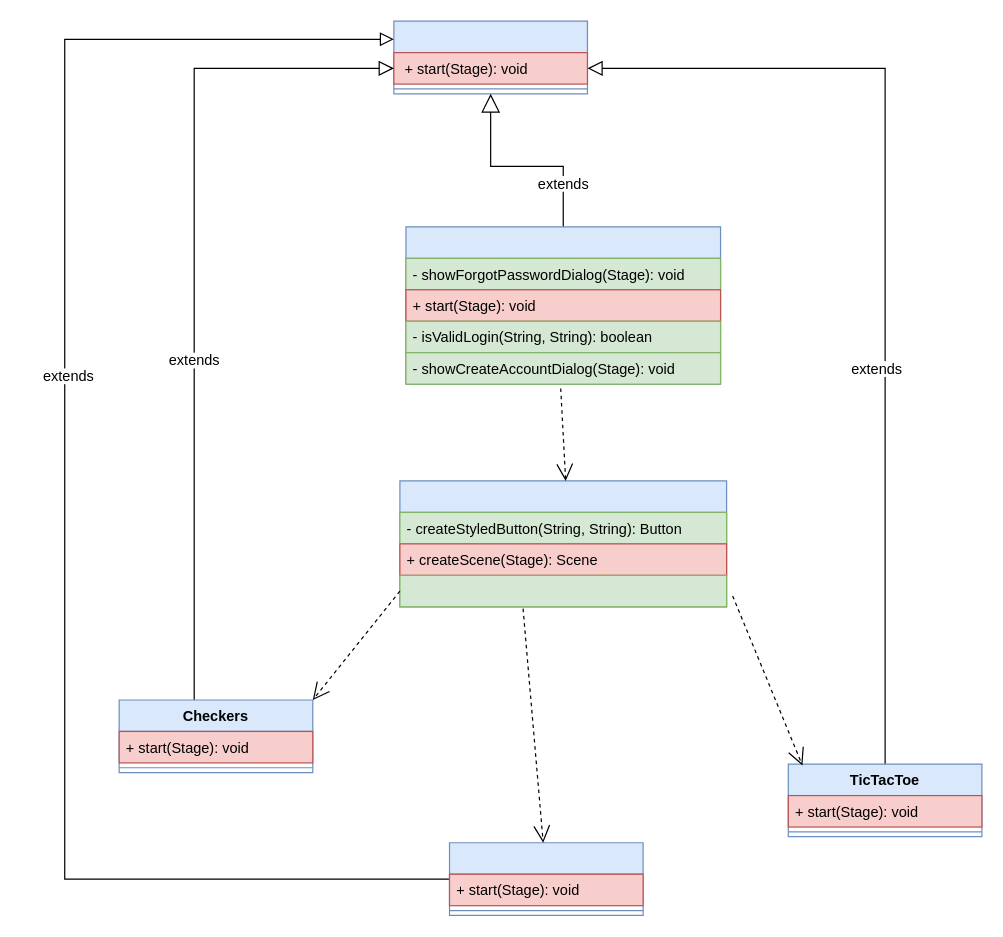
Image size: 1003x937. Some labels were removed from this diagram. Here are the shapes that lost their labels. From the top down, the box of each, then its label:
(393, 20, 587, 94): Application
(405, 226, 721, 384): LoginWindow
(399, 480, 727, 607): GameMenu
(399, 574, 727, 607): - launchGame(String, Stage): void
(448, 842, 643, 915): Connect4
